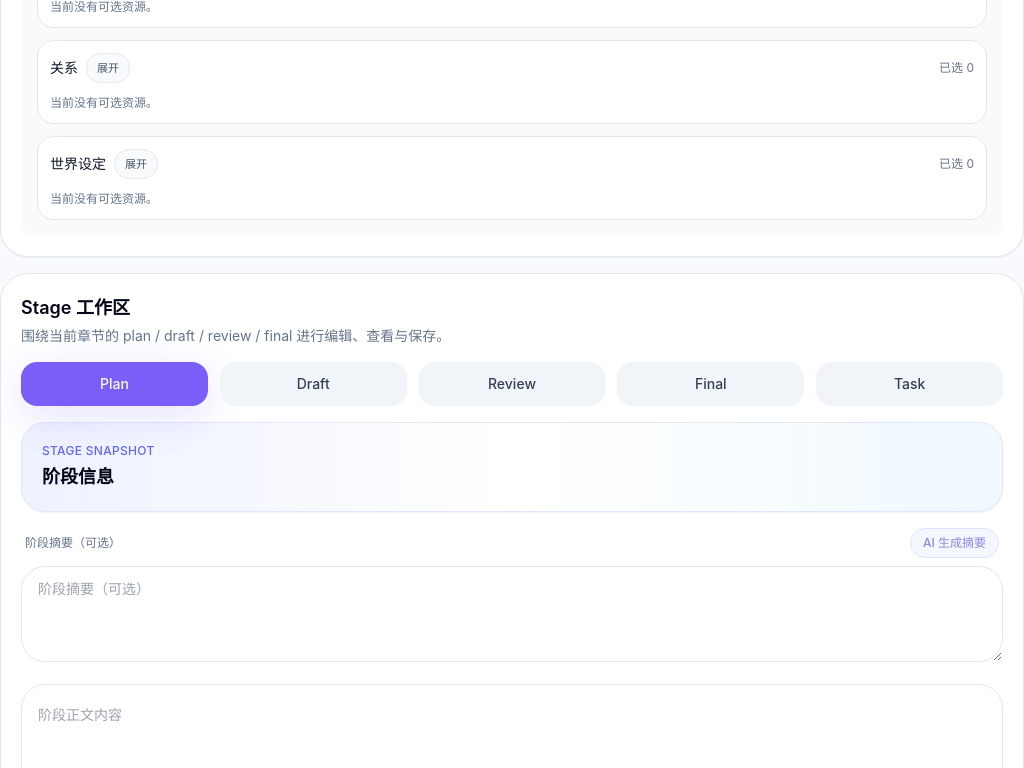
Test case: ChapterWorkbenchPage › hides stage summary generation for review stage
This screenshot has width=1024, height=768.
(page scrolled)
Click the button "Review" at {"x": 512, "y": 384}, box [419,362,605,406]
(page scrolled)
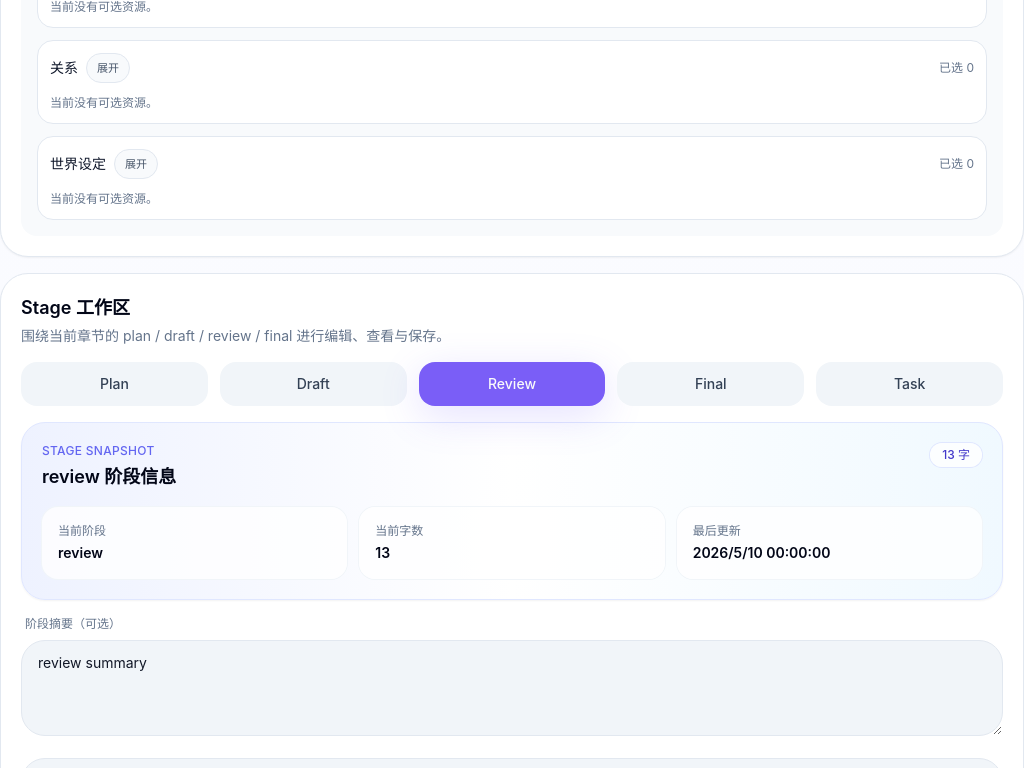
expect the button "AI 生成摘要" is gone: met
